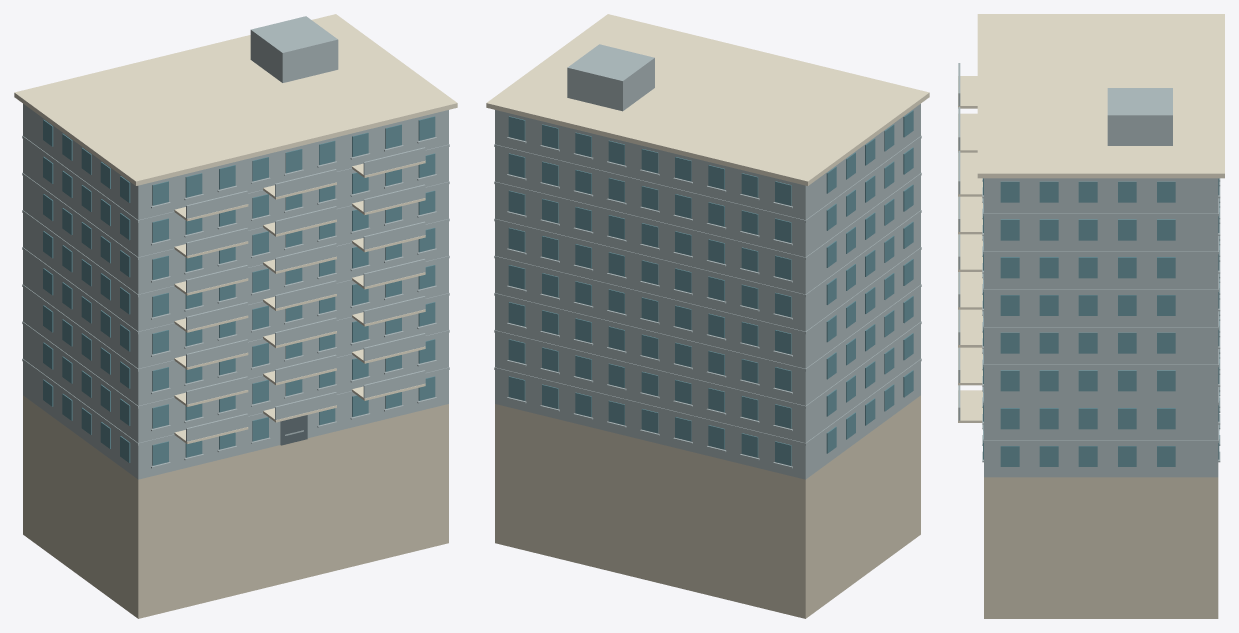
File: apartment-1.glb
3 renders of one model, left to right at view 1: azimuth 30°, elevation 25°; view 2: azimuth 150°, elevation 25°; view 3: azimuth 270°, elevation 25°, orthographic.
Size of the model in its own units: 29 by 40.6 by 20.5.
